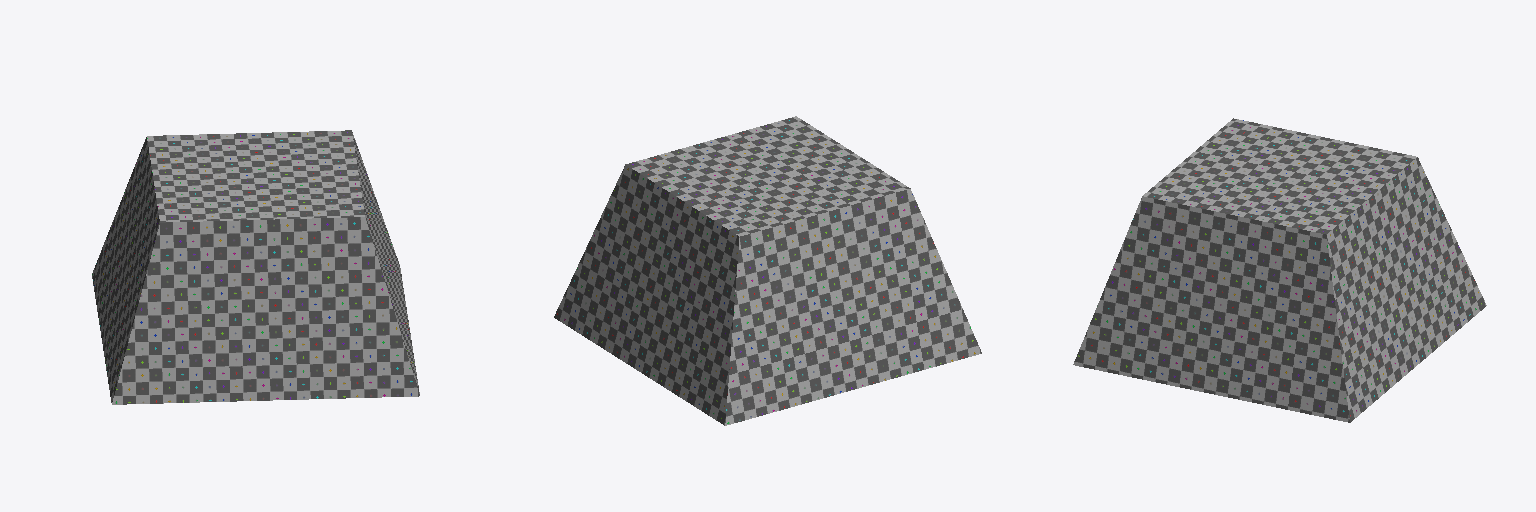
3 renders of one model, left to right at view 1: azimuth 30°, elevation 25°; view 2: azimuth 150°, elevation 25°; view 3: azimuth 270°, elevation 25°, orthographic.
Visible parts, largest first — view 1: frustum; view 2: frustum; view 3: frustum.
Part boxes in pixels (x1,y1,x2,y2): frustum: (92,130,419,404); frustum: (554,116,981,425); frustum: (1073,118,1486,422).
Size of the model in its own units: 4.64 by 1.96 by 4.64.
Materials: 1 (1 with a texture image).